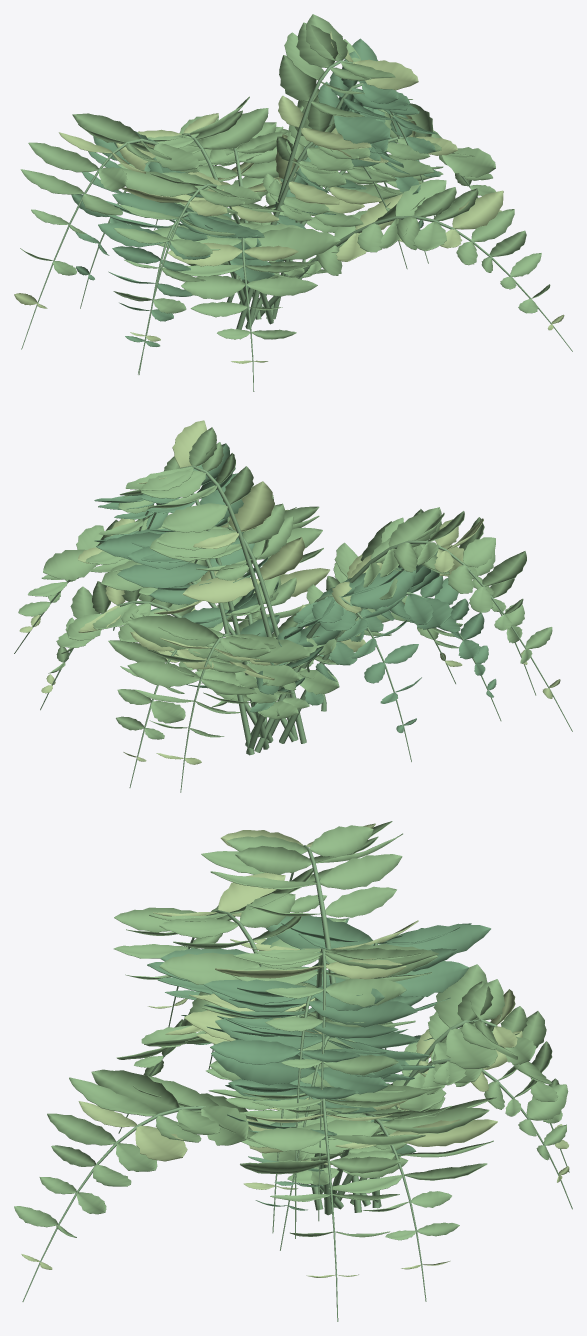
3 views of the same model, one above another, from view 1: azimuth 30°, elevation 25°; view 2: azimuth 150°, elevation 25°; view 3: azimuth 270°, elevation 25° (orthographic). The views are drawn at different scales.
Parts seen in each view (by area): view 1: fern_fronds; view 2: fern_fronds; view 3: fern_fronds.
Part boxes in pixels (bbox=[...]): fern_fronds: bbox=[14, 14, 572, 391]; fern_fronds: bbox=[14, 420, 572, 792]; fern_fronds: bbox=[14, 821, 572, 1321].
Size of the model in its own units: 1.88 by 0.8923 by 1.45.
